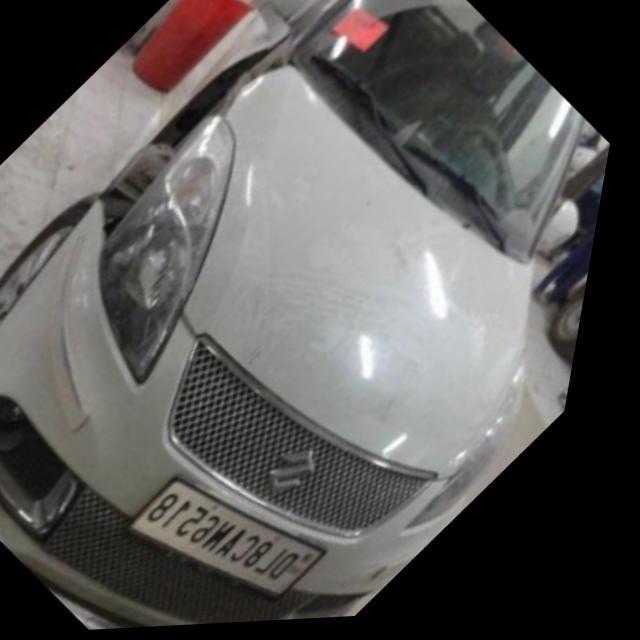dislocated part: (70, 16, 304, 249)
